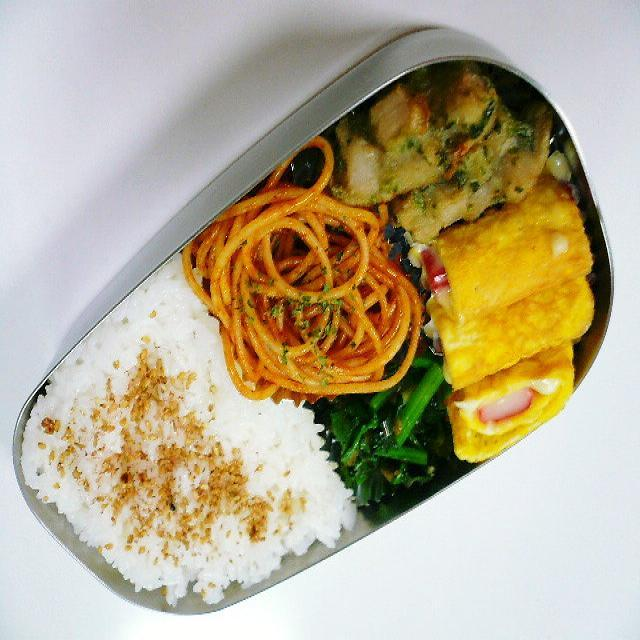Rice: (42, 368, 258, 596)
